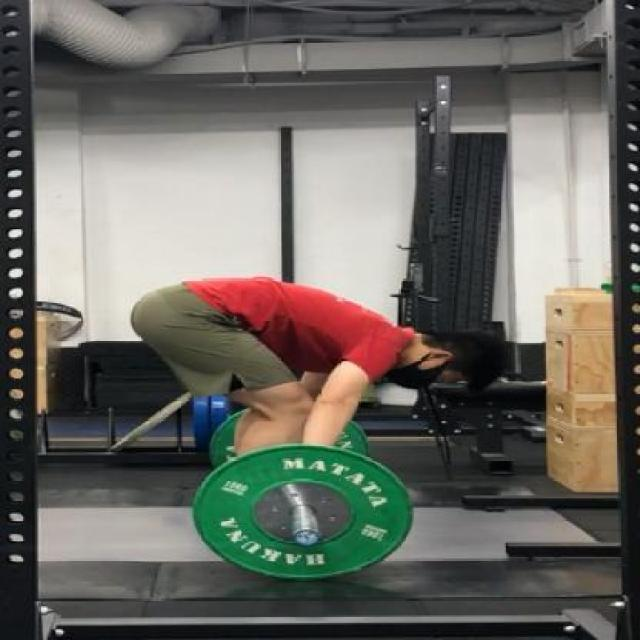Barbell: (286, 525, 326, 550)
